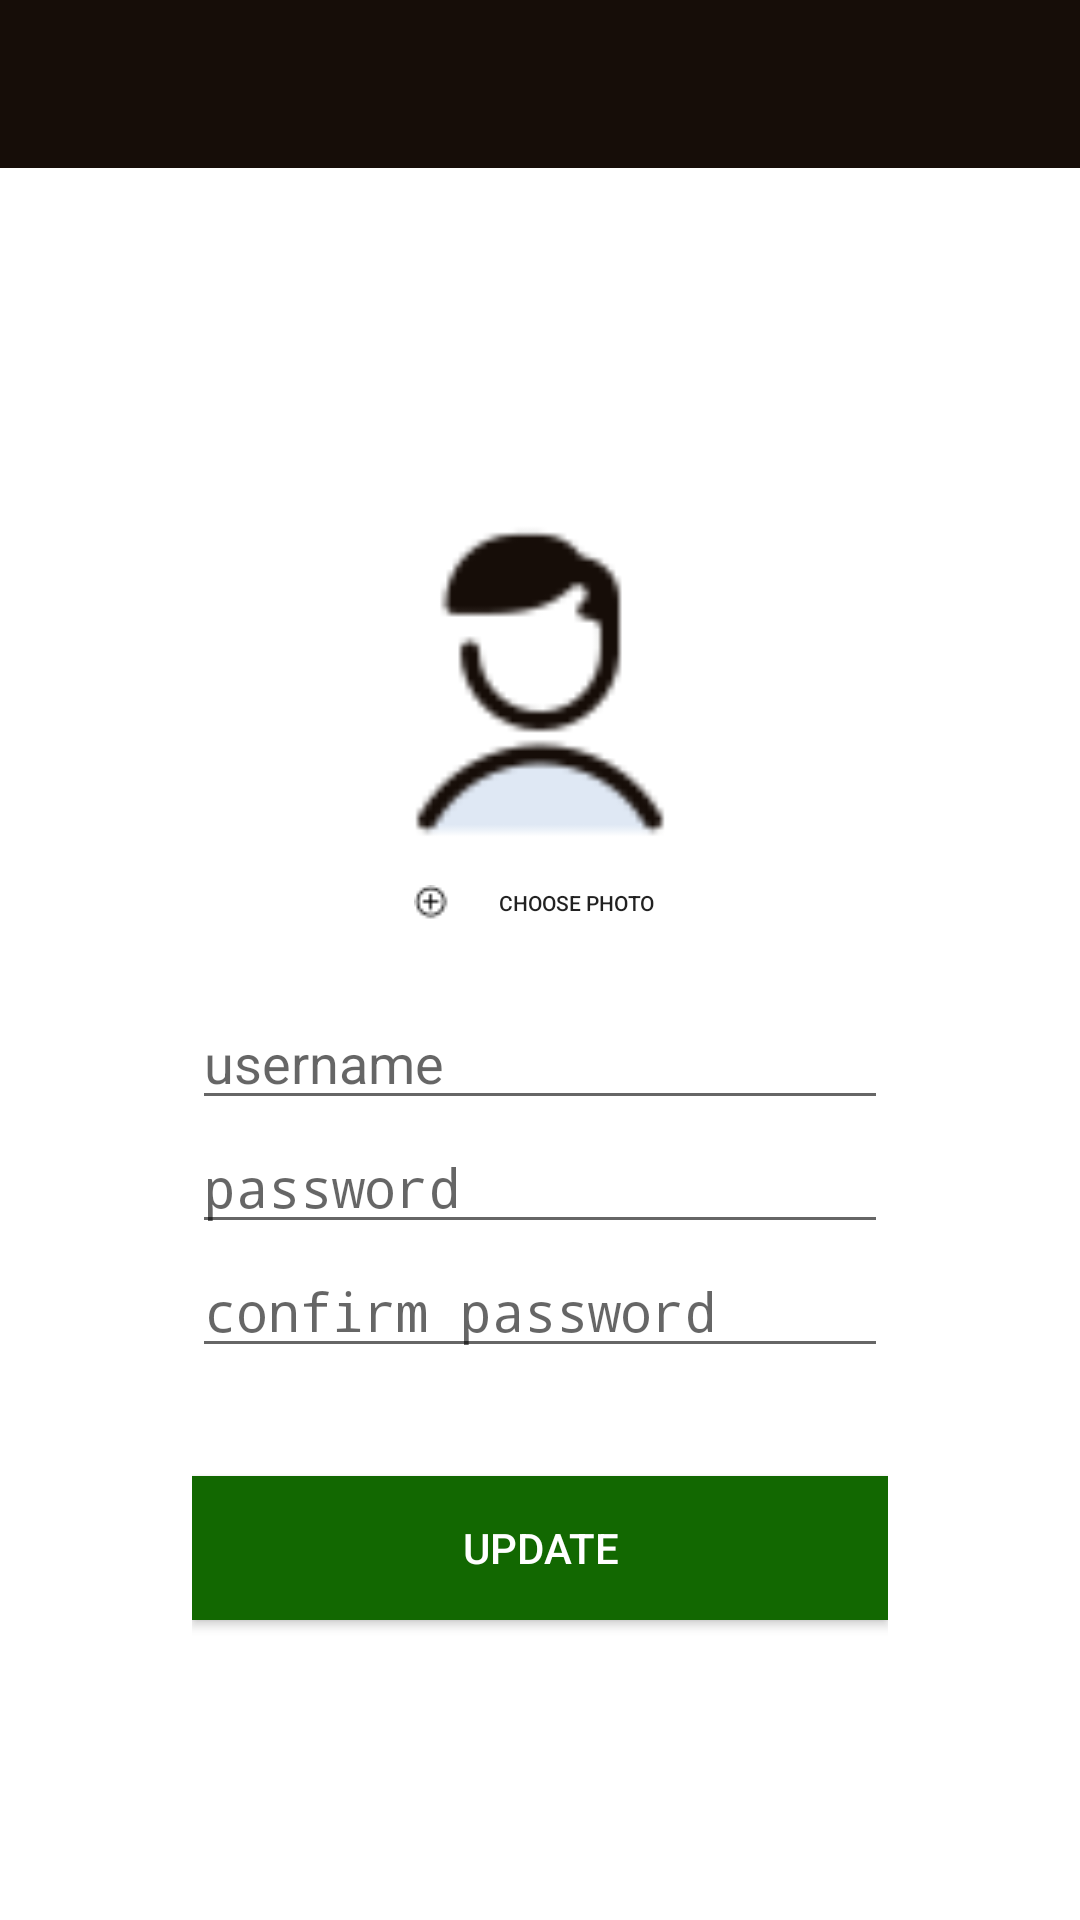

Screen size 1080 x 1920. Icon name, then its box in pixels as bbox=[x1, y1, x2, y2]:
profile: bbox=[416, 532, 664, 834]
